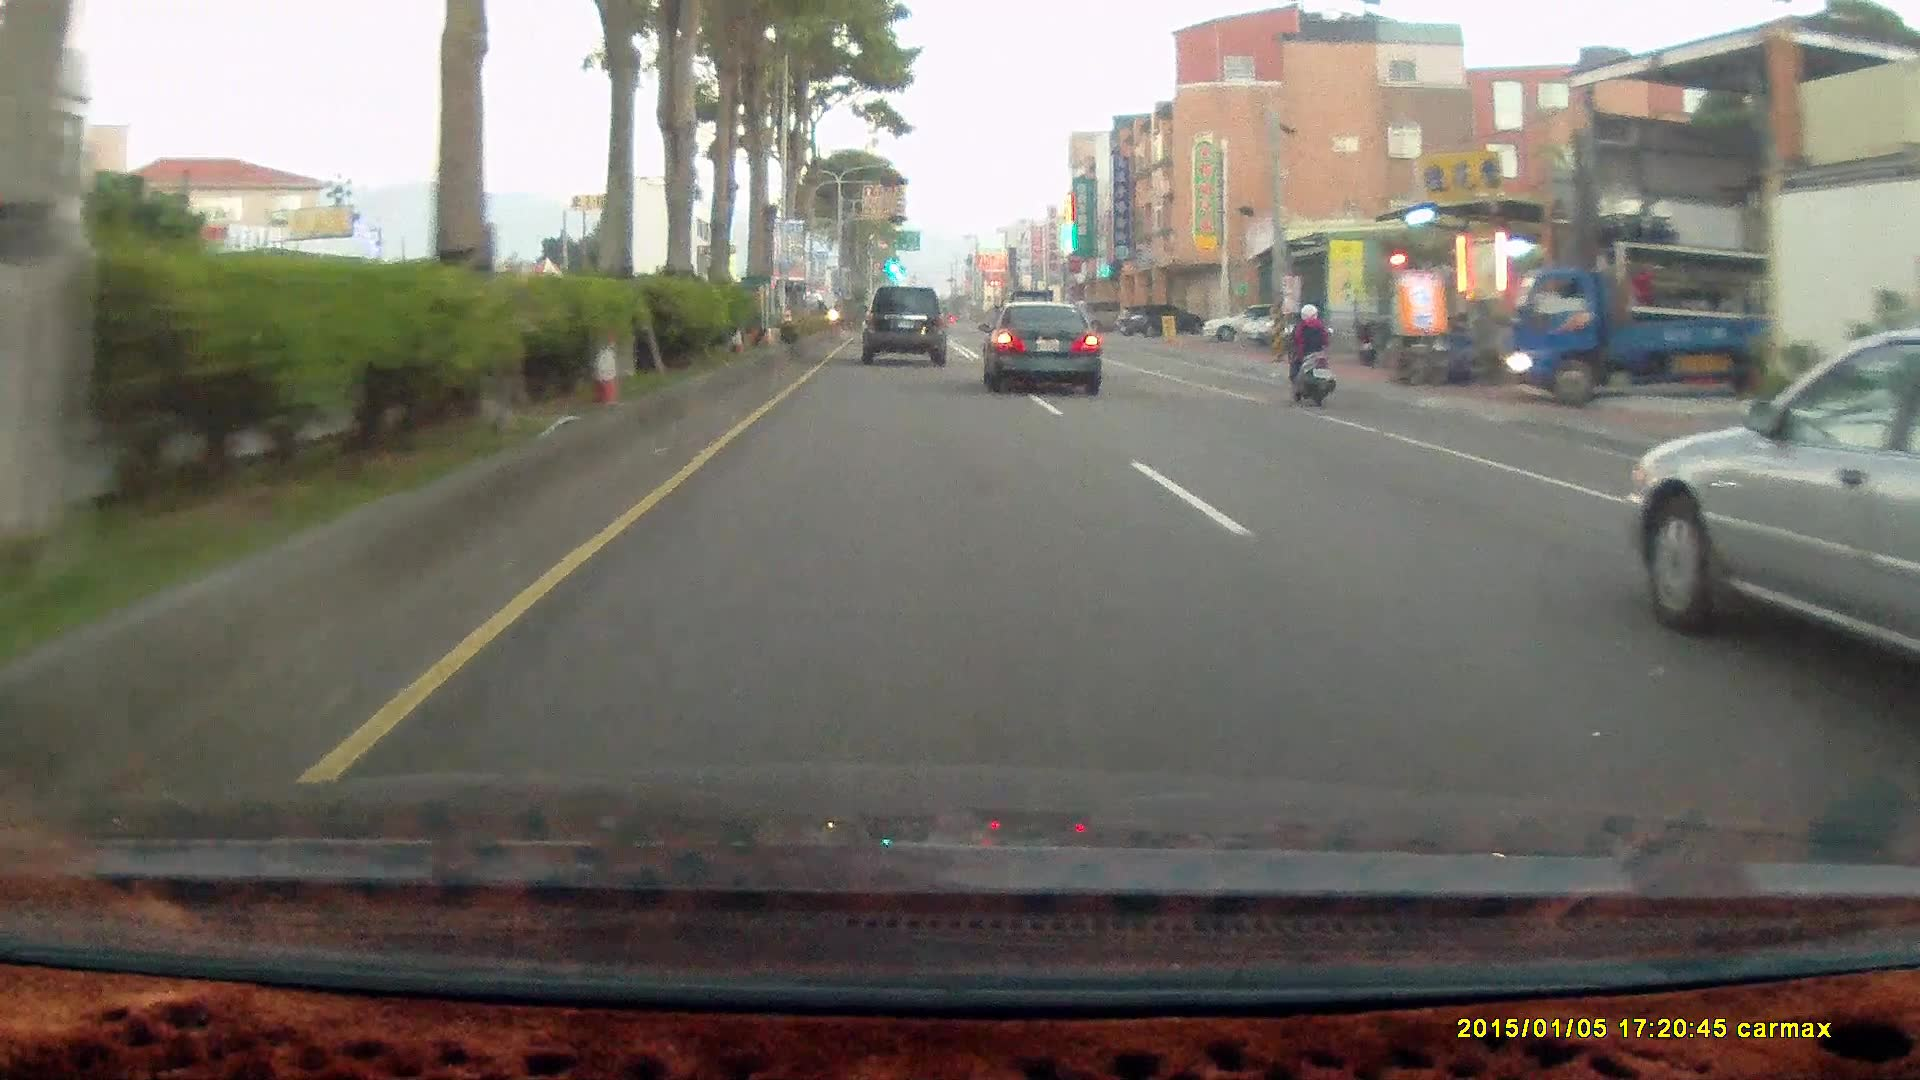rider: (1270, 291, 1349, 419), (1278, 299, 1337, 402)
vehicle: (1629, 325, 1920, 723), (1626, 330, 1920, 699), (1499, 238, 1784, 403), (1496, 269, 1825, 406), (975, 297, 1101, 392), (985, 297, 1108, 394), (864, 282, 952, 366), (860, 283, 947, 365), (1287, 296, 1392, 350), (1203, 301, 1302, 340), (1116, 304, 1203, 338), (1074, 297, 1138, 333)
